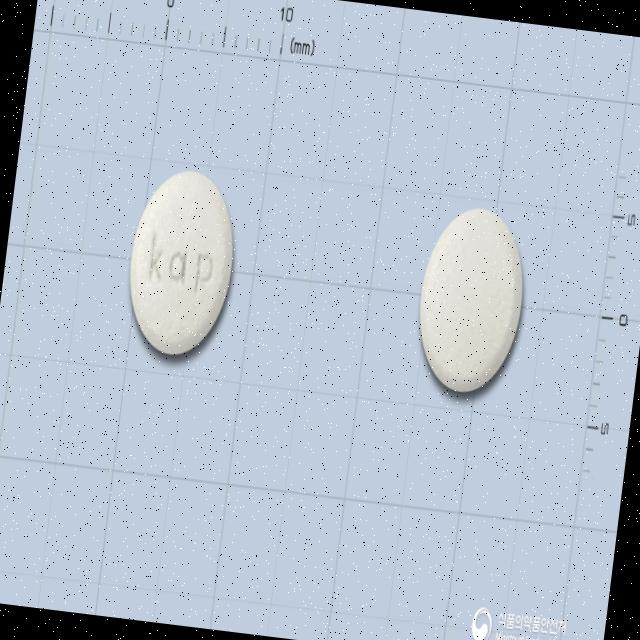Lebofacin: (118, 162, 244, 362), (409, 200, 533, 398)
